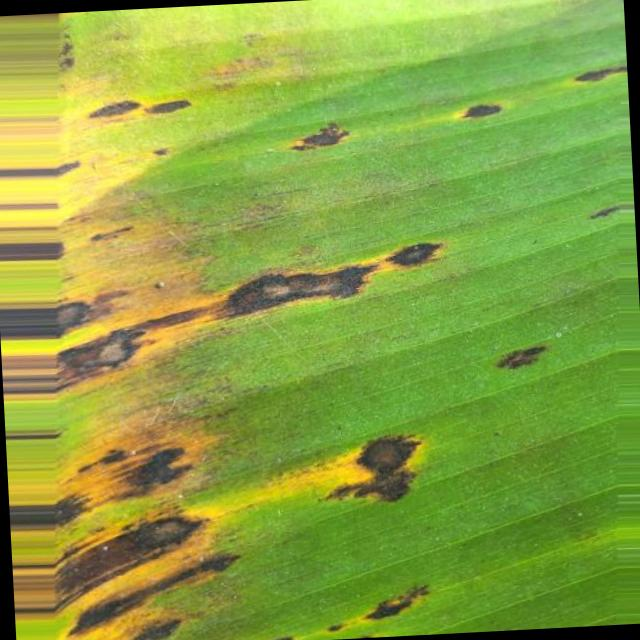Banana_Black_Sigatoka: (0, 80, 459, 364), (18, 402, 452, 640)
